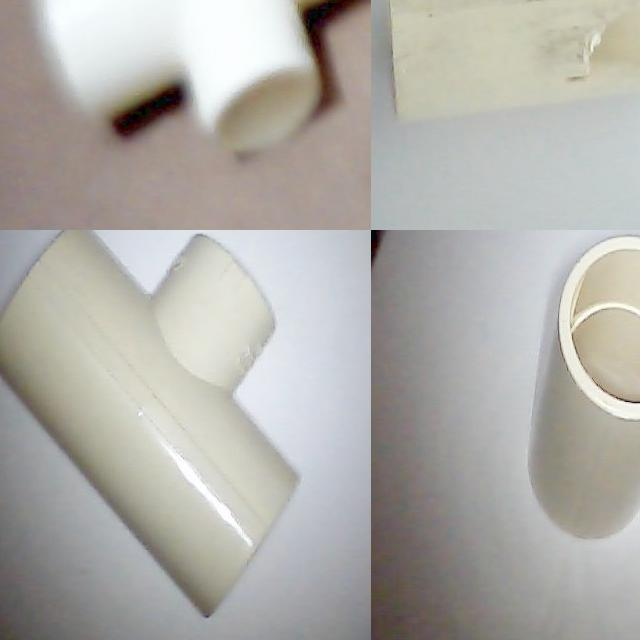T Joint: (0, 230, 302, 620), (32, 0, 330, 154), (526, 235, 640, 543)
